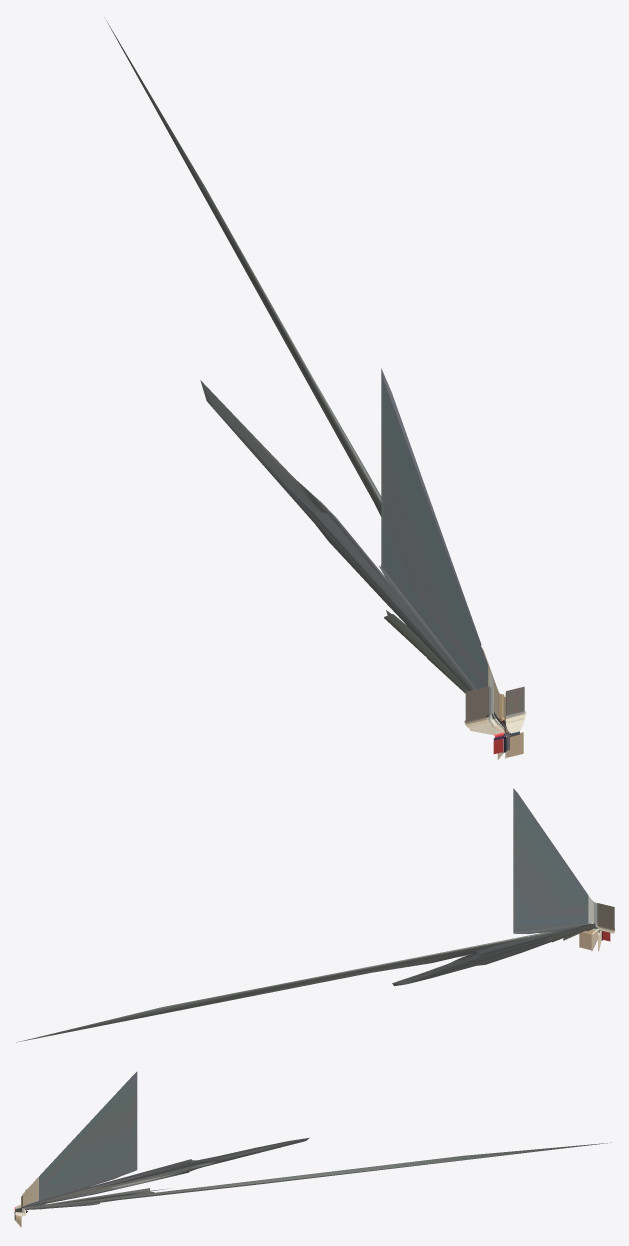
3 renders of one model, top to bottom at view 1: azimuth 30°, elevation 25°; view 2: azimuth 150°, elevation 25°; view 3: azimuth 270°, elevation 25°, orthographic. The views are drawn at different scales.
Size of the model in its own units: 18.36 by 23.9 by 84.33.
2 materials, 2 textured.
